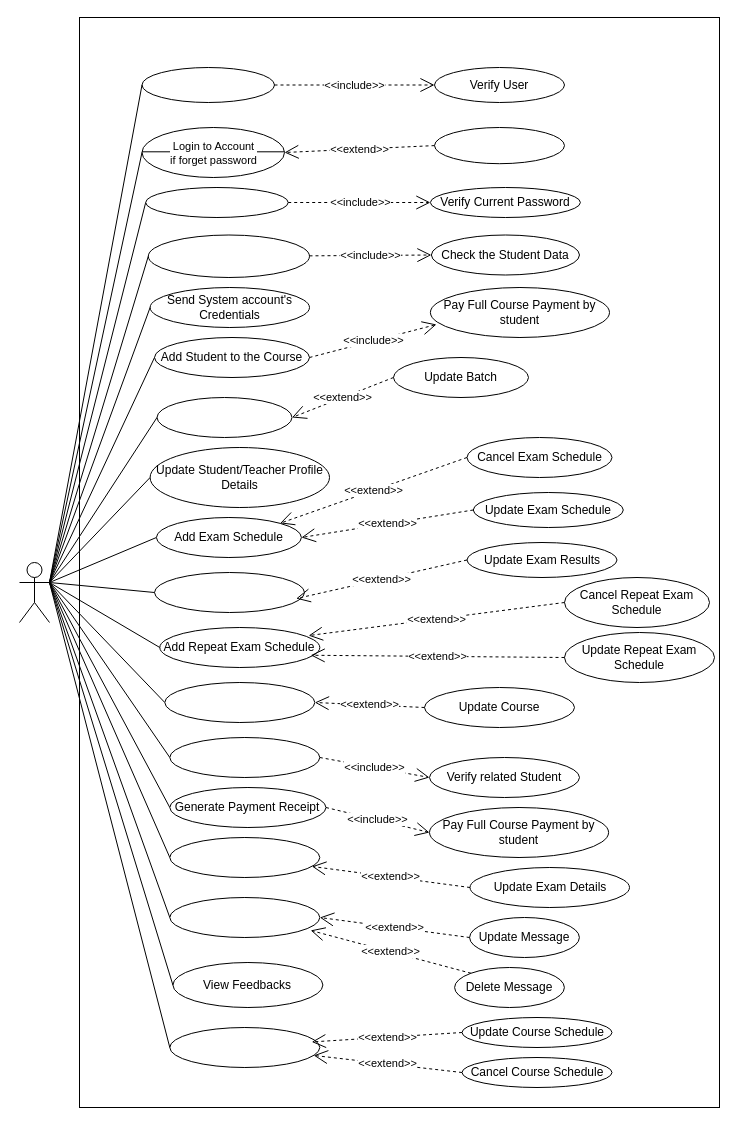
Some shapes in this 737 by 1125 pixel diagram are drawn without their labels. Each missing label, with the centre of its shape:
"Add Batch" goes at point (224, 417).
"Add Course Schedule" goes at point (244, 1047).
"Add Messages" goes at point (244, 917).
"Add New Course" goes at point (239, 702).
"Add New Exam" goes at point (244, 857).
"Admin" goes at point (34, 592).
"Change Password" goes at point (216, 202).
"Login to Account" goes at point (207, 84).
"Publish Exam Results" goes at point (229, 592).
"Punch Student ID to Attendance" goes at point (244, 757).
"Register Student for System" goes at point (228, 256).
"Reset Password" goes at point (499, 145).
